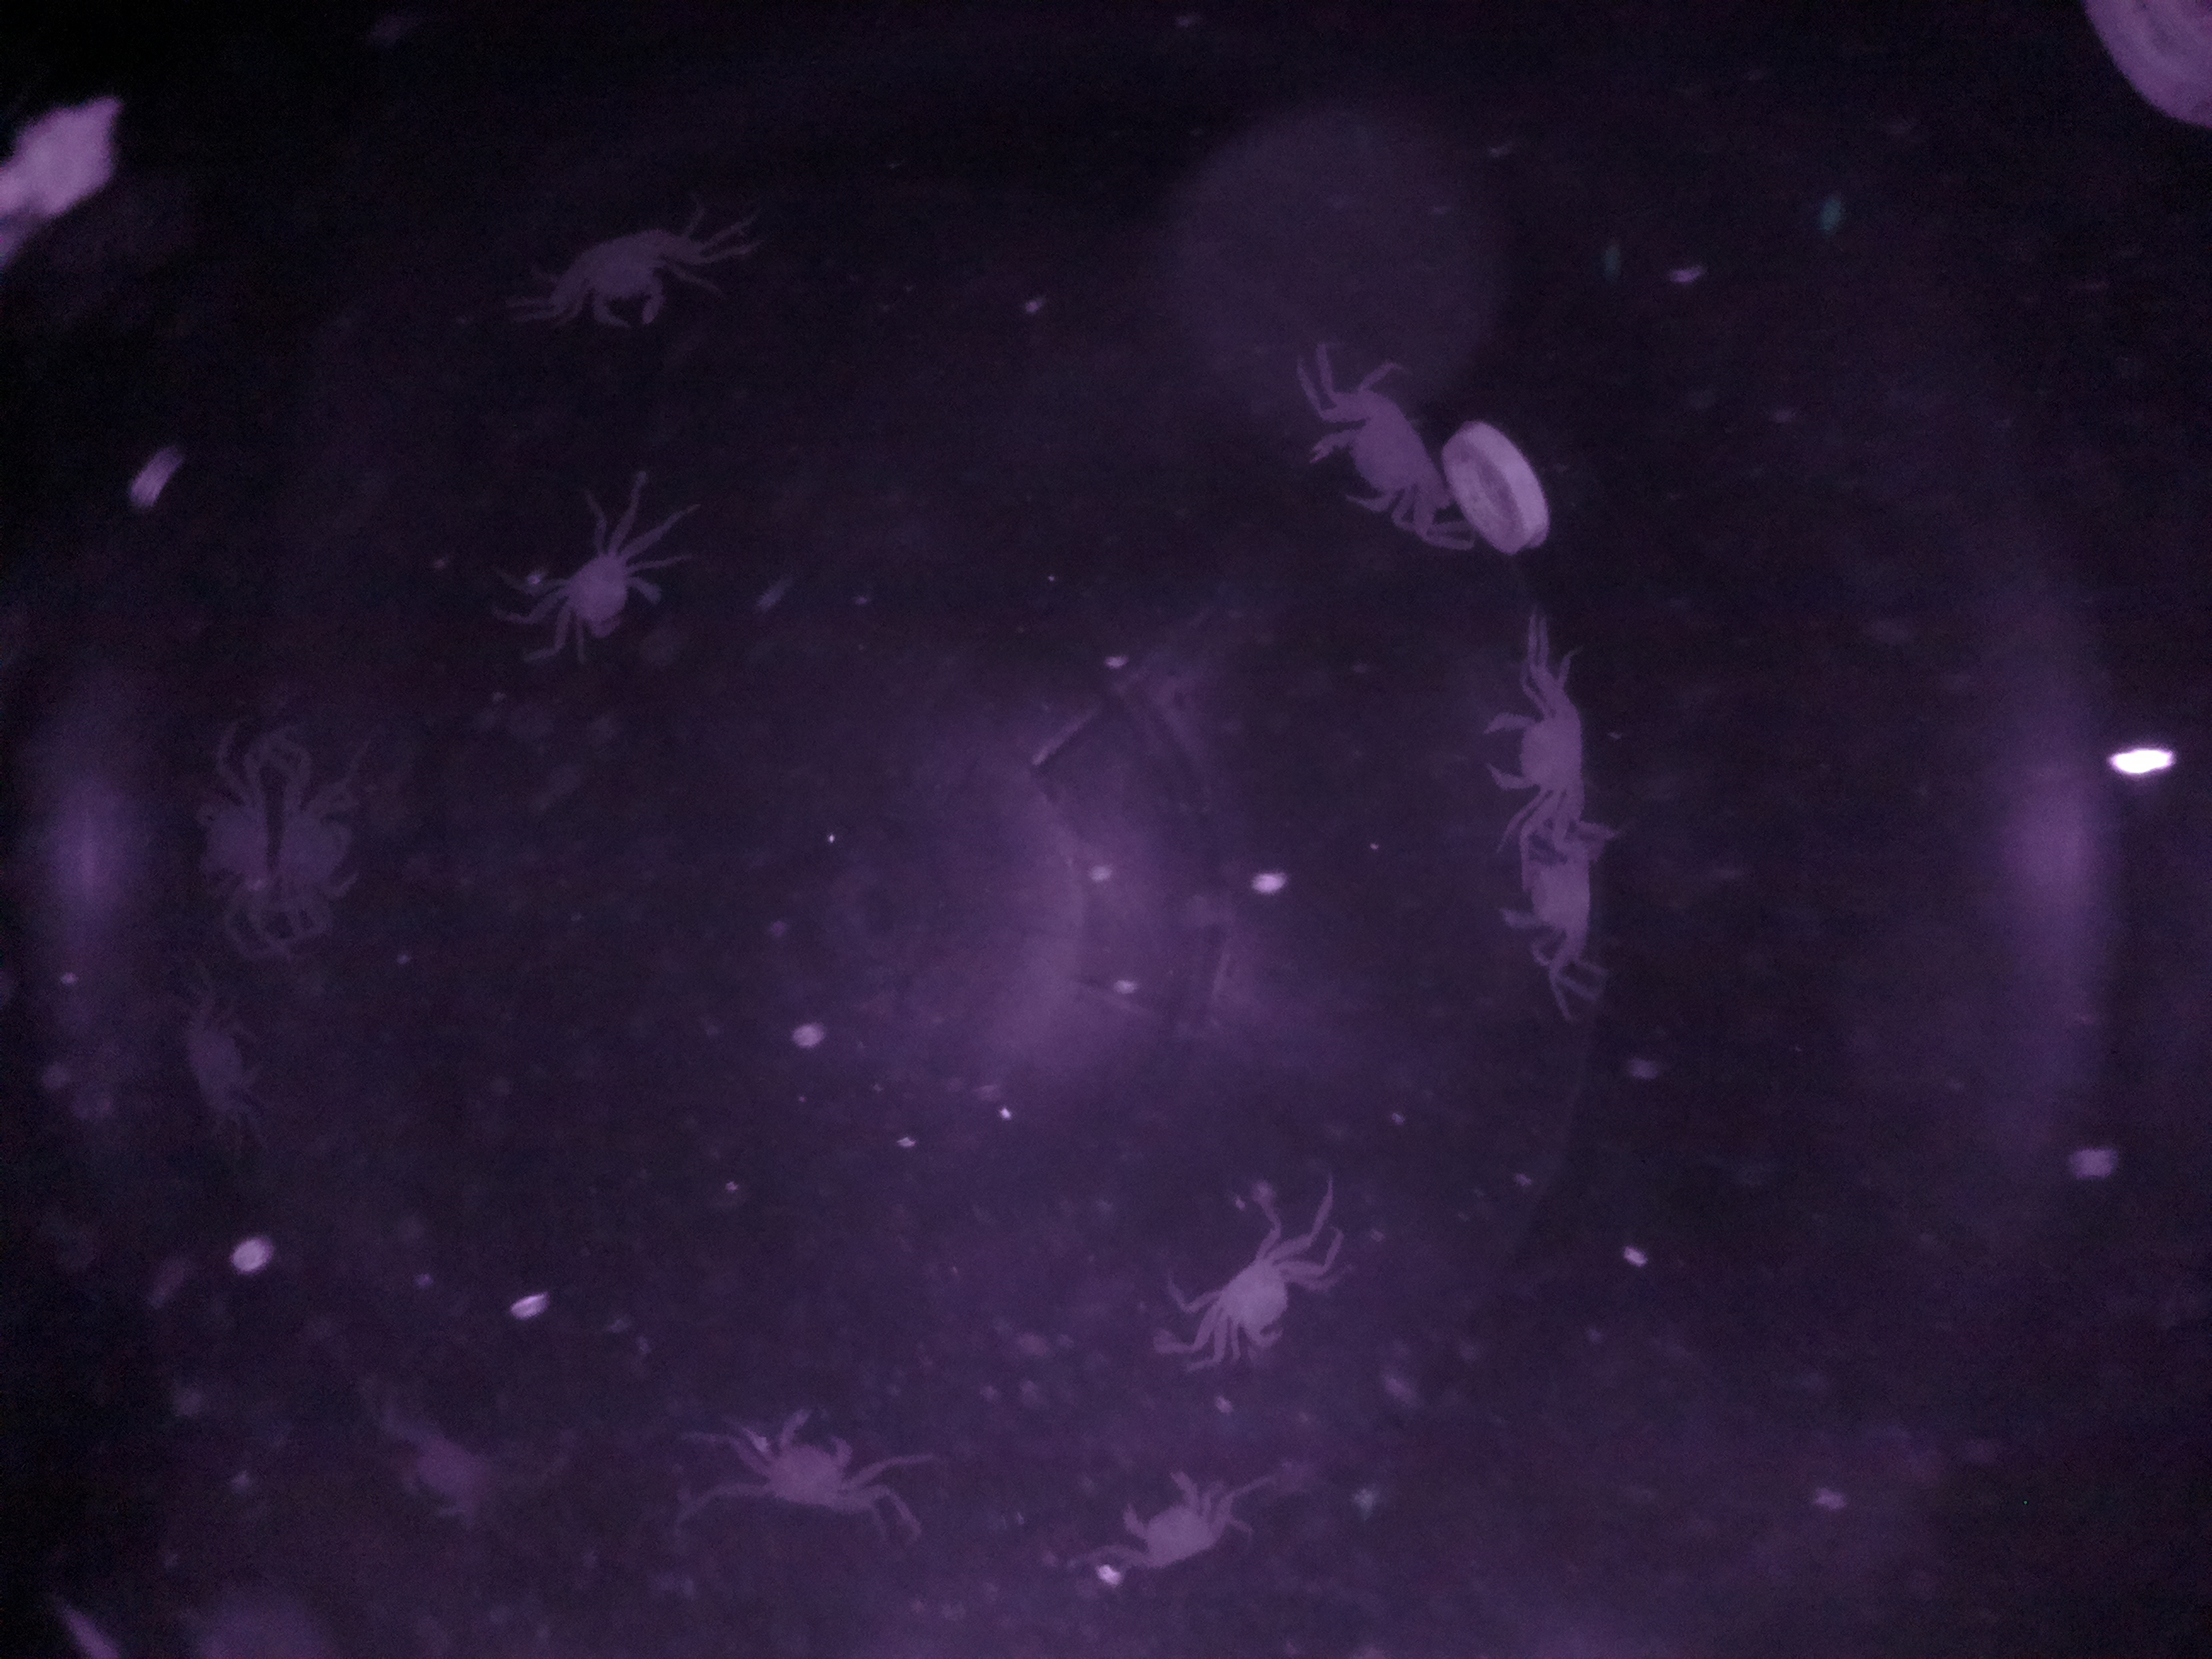Crab: (1298, 364, 1463, 558), (1169, 1202, 1341, 1387), (519, 500, 685, 671), (543, 192, 716, 343), (1090, 1446, 1245, 1614), (1460, 669, 1613, 826), (735, 1394, 895, 1542)
